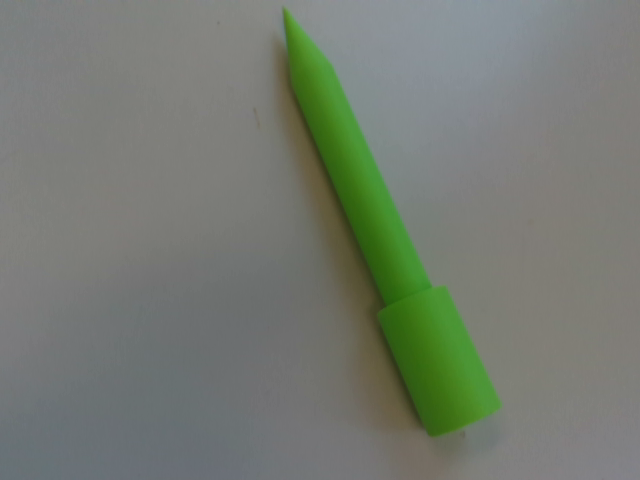Probe: (274, 1, 511, 449)
